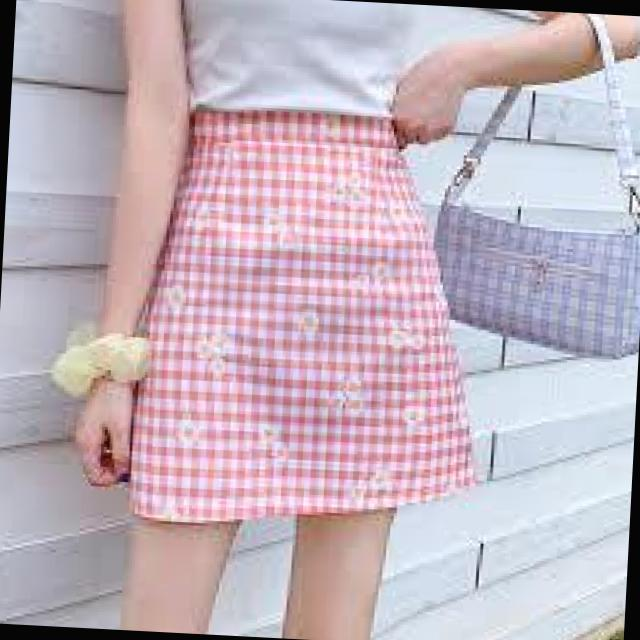skirt: (119, 101, 488, 540)
